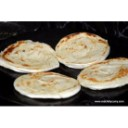parota: (13, 70, 79, 100), (56, 29, 109, 66), (1, 38, 58, 72), (80, 60, 128, 89)
